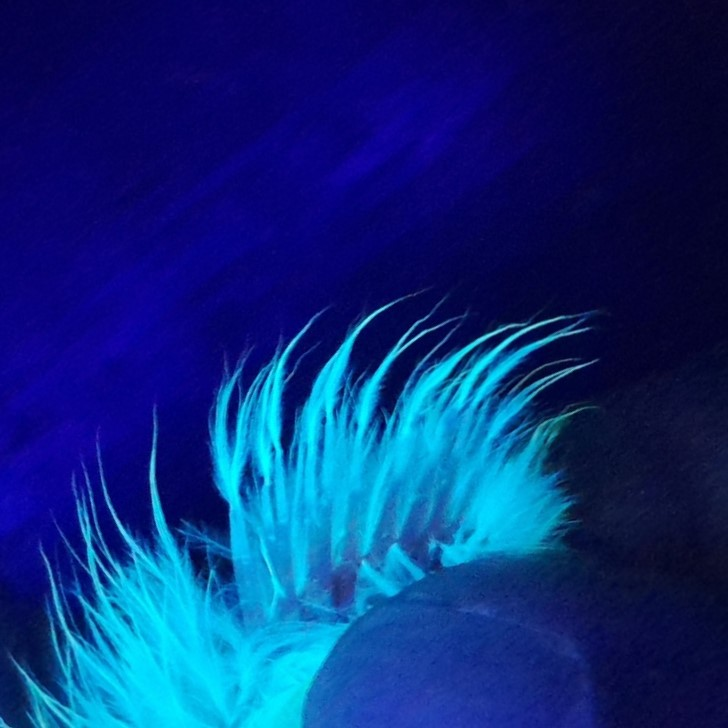male: (198, 379, 517, 618)
